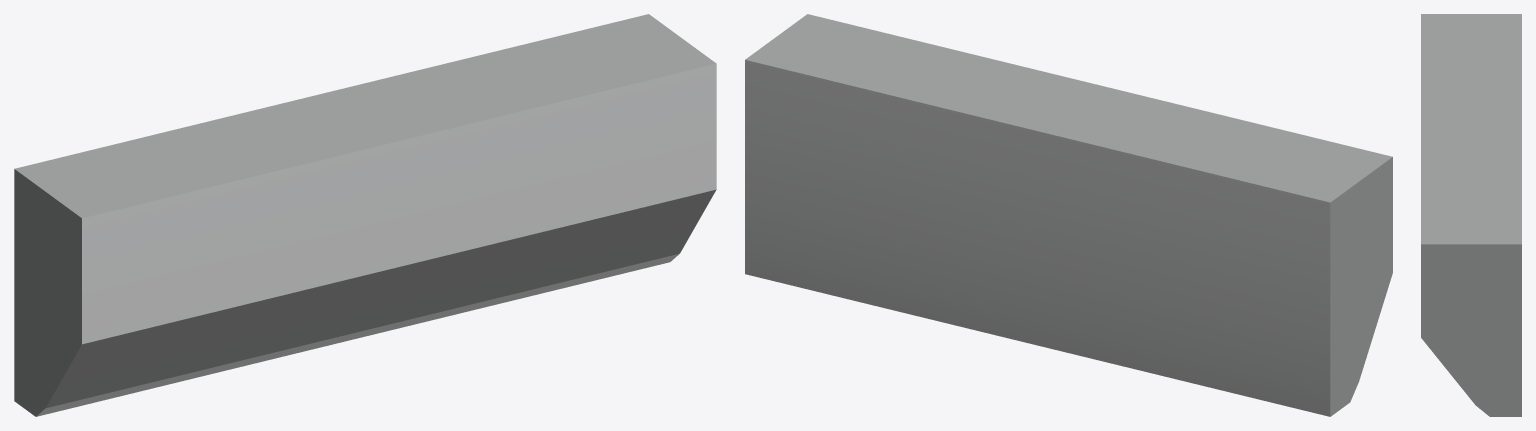
File: Wall_type_A_006.glb
3 views of the same model, side by side, from view 1: azimuth 30°, elevation 25°; view 2: azimuth 150°, elevation 25°; view 3: azimuth 270°, elevation 25° (orthographic). The views are drawn at different scales.
Visible parts, largest first — view 1: Wall_type_A_006; view 2: Wall_type_A_006; view 3: Wall_type_A_006.
Boxes of the visible parts, bbox=[...] form: Wall_type_A_006: bbox=[14, 14, 716, 416]; Wall_type_A_006: bbox=[745, 14, 1392, 416]; Wall_type_A_006: bbox=[1421, 14, 1521, 416].
Size of the model in its own units: 2 by 0.7 by 0.37.
Materials: 1 (1 with a texture image).
